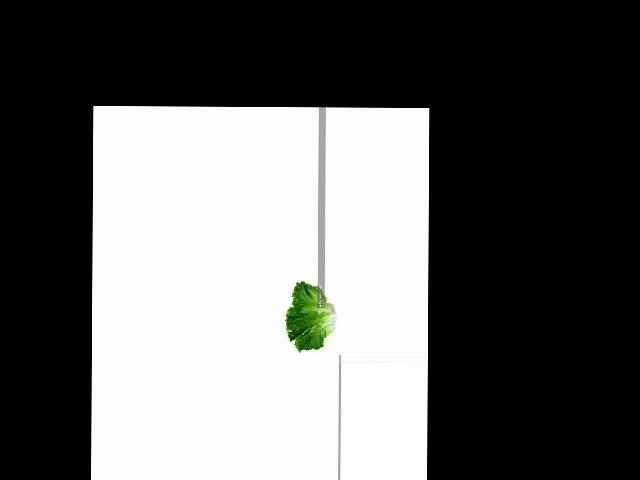lettuce: (286, 284, 337, 351)
